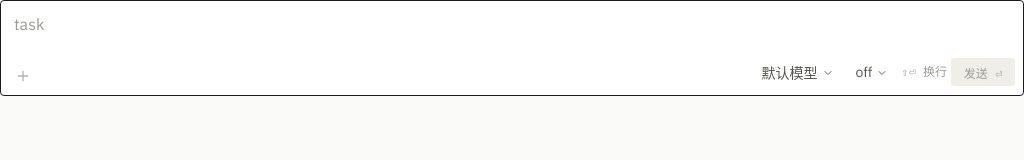
composer completion menus › suggests project paths after @ and inserts the reference
Type "explain @cl" into the text box with test id "composer-input" at (512, 28), box [9,8,1015,48]
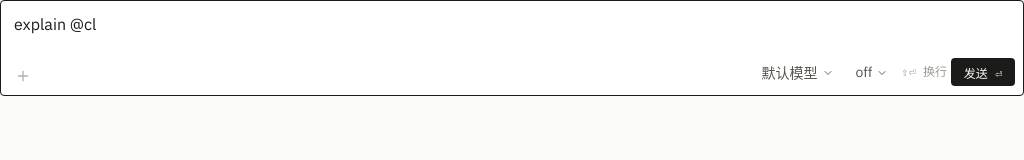
Expected: the text box with test id "composer-input" has attribute aria-activedescendant="composer-menu-option-0"
Press Enter in the text box with test id "composer-input", box [9,8,1015,48]
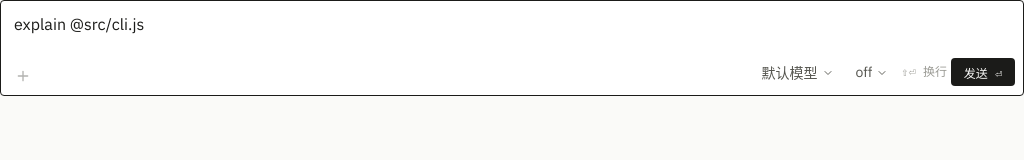
Expected: the text box with test id "composer-input" holds "explain @src/cli.js ", [9,8,1015,48]
